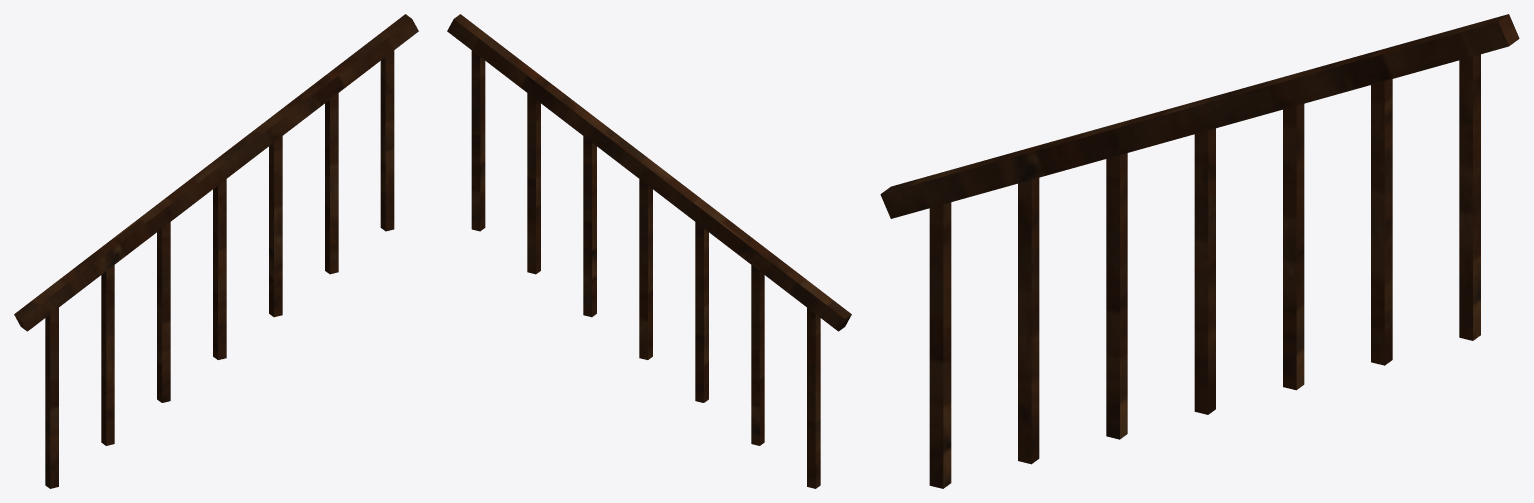
Rendered from StairBanister.glb.
3 renders of one model, left to right at view 1: azimuth 30°, elevation 25°; view 2: azimuth 150°, elevation 25°; view 3: azimuth 330°, elevation 25°, orthographic. The views are drawn at different scales.
Parts seen in each view (by area): view 1: StairBanister; view 2: StairBanister; view 3: StairBanister.
Boxes of the visible parts, <box> form: StairBanister: <box>14,14,418,488</box>; StairBanister: <box>447,14,851,488</box>; StairBanister: <box>880,14,1519,488</box>.
Size of the model in its own units: 2.03 by 1.87 by 0.0597.
Materials: 1 (1 with a texture image).
